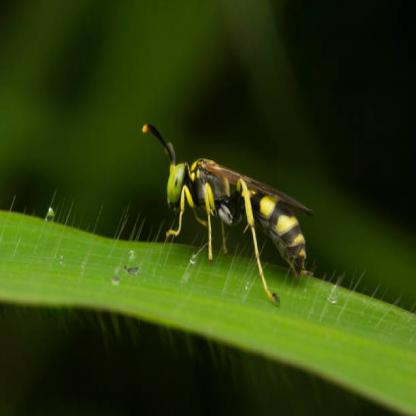sawfly: (134, 122, 316, 307)
